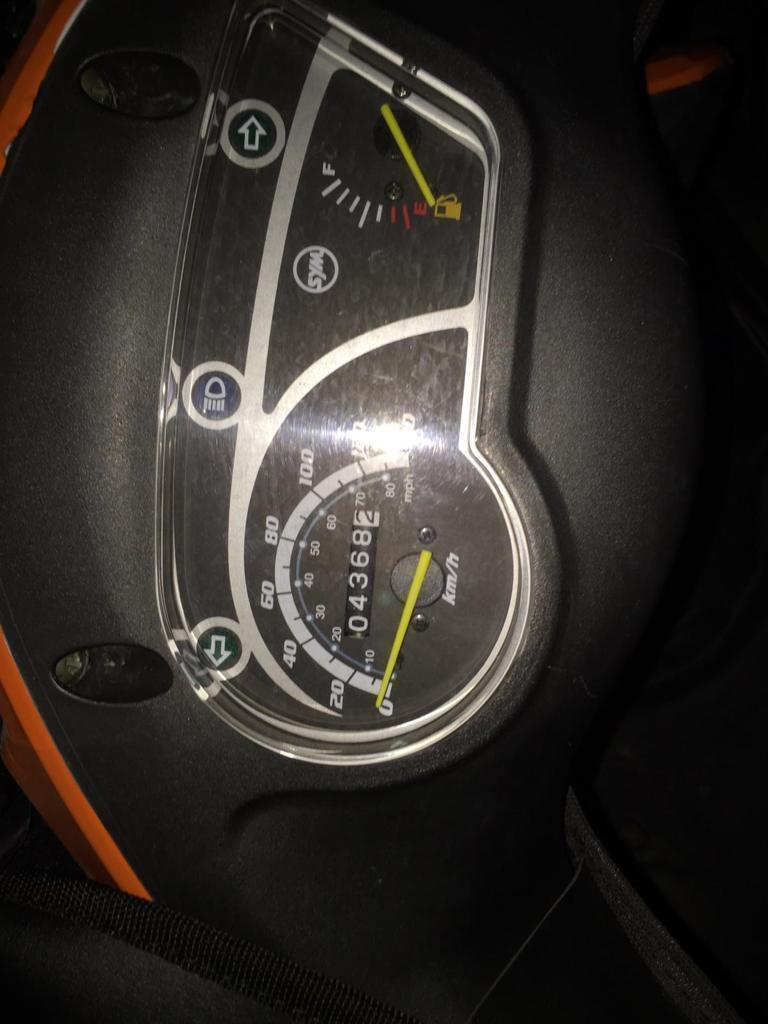0: (348, 615, 368, 631)
2: (355, 508, 374, 523)
3: (348, 572, 368, 589)
4: (348, 594, 368, 611)
6: (350, 550, 369, 567)
8: (352, 528, 372, 546)
odometer: (342, 507, 382, 640)
